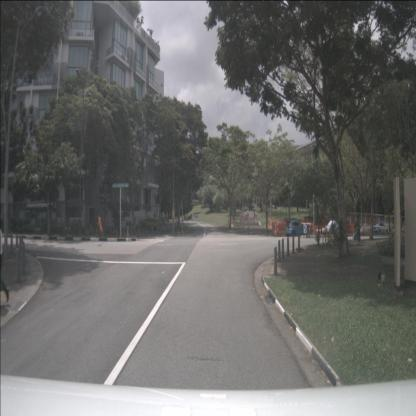human-pedestrian-adult: (0, 219, 10, 302), (352, 214, 361, 247), (247, 210, 249, 220), (245, 211, 247, 220), (255, 210, 257, 219), (254, 210, 255, 218)
movable_object-barrier: (278, 221, 288, 236), (345, 224, 356, 234), (314, 224, 324, 235), (268, 220, 276, 233), (272, 221, 277, 233)
movable_object-trafficcone: (302, 223, 314, 233)
vehicle-bicycle: (326, 230, 340, 247), (323, 228, 336, 245)
vehicle-car: (285, 220, 306, 237), (372, 223, 388, 233)
